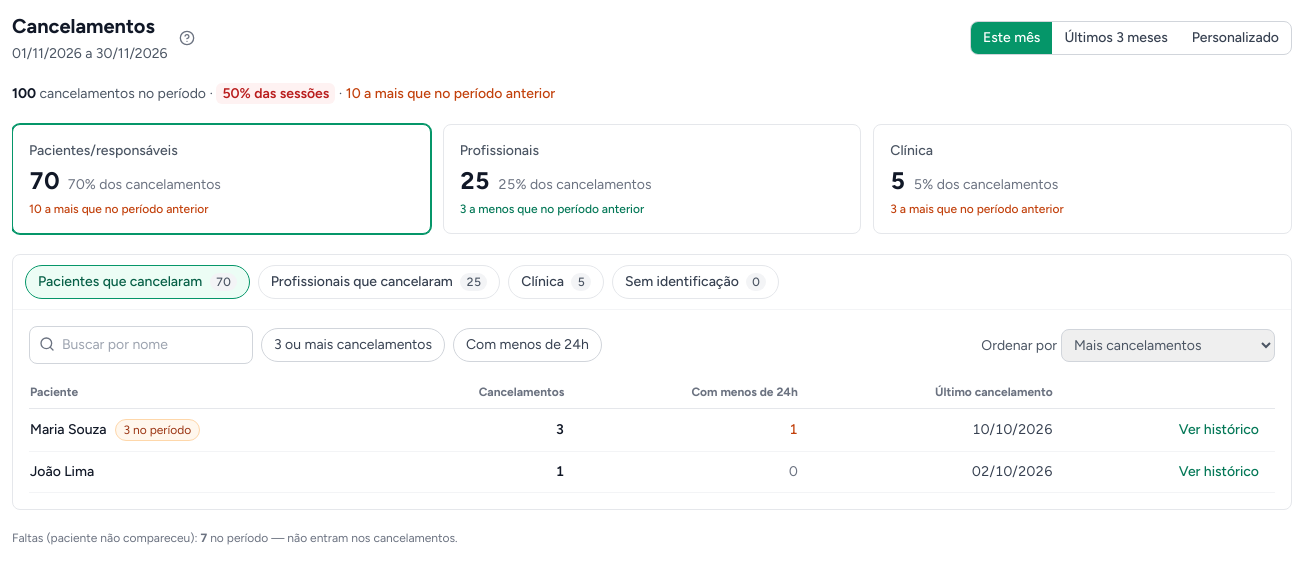
Test: CancellationsReport › busca e filtro "3 ou mais cancelamentos"
Expected: the text "Maria Souza" is shown, [30, 420, 107, 440]
Step 1. Click the button "3 ou mais cancelamentos" → point(353, 345), box [261, 328, 445, 362]
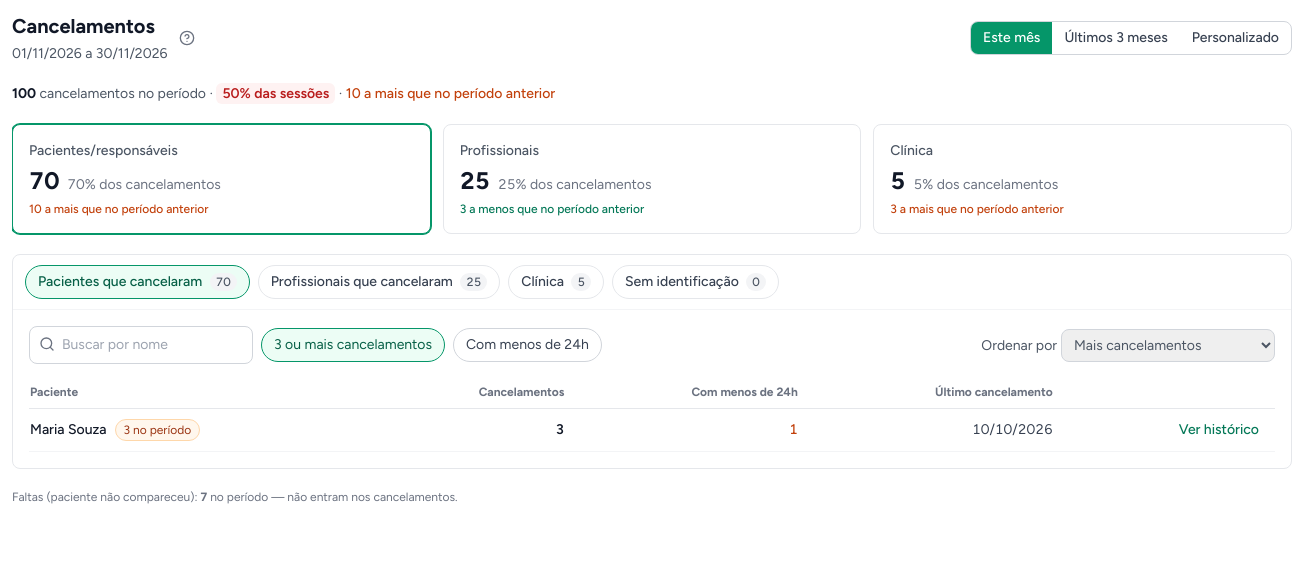
Expected: the text "Maria Souza" is shown, [30, 420, 107, 440]
Expected: the text "João Lima" is gone
Step 2. Click the button "3 ou mais cancelamentos" → point(353, 345), box [261, 328, 445, 362]
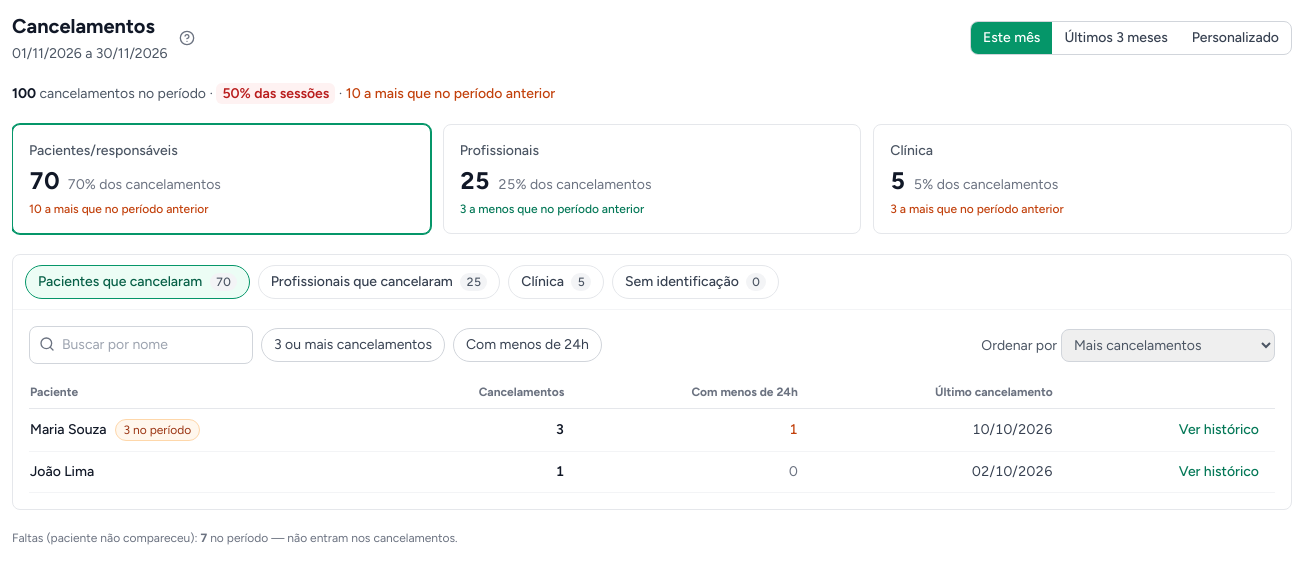
Step 3. Type "joão" into the search field with placeholder "Buscar por nome" → point(141, 345), box [29, 326, 253, 364]
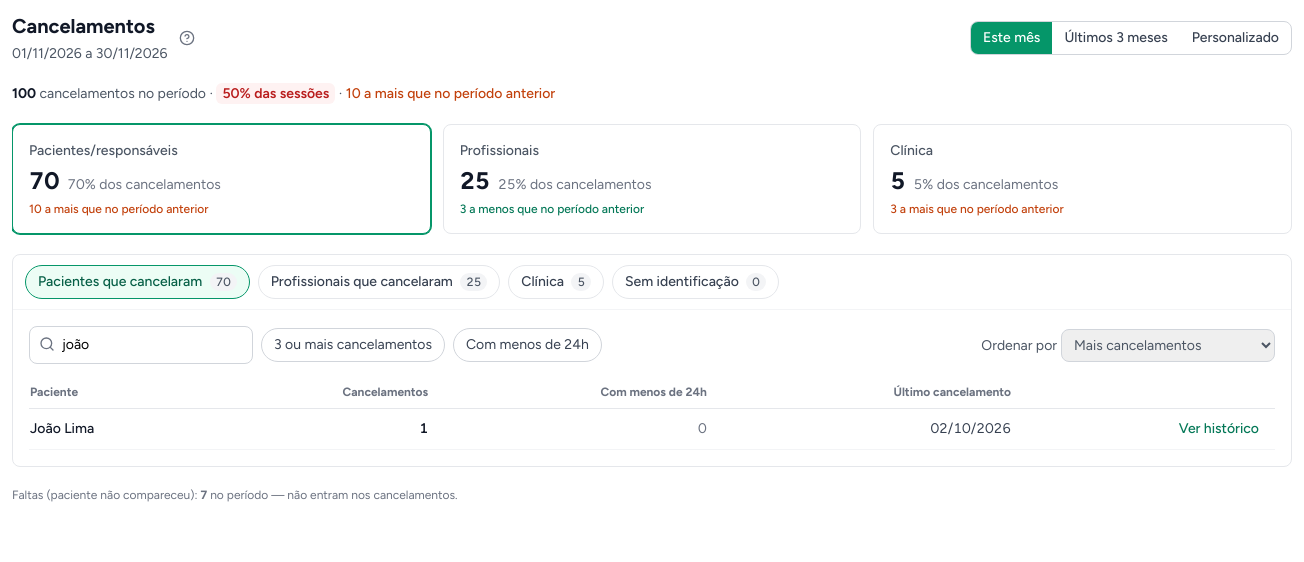
Expected: the text "João Lima" is shown, [30, 419, 94, 439]
Expected: the text "Maria Souza" is gone
